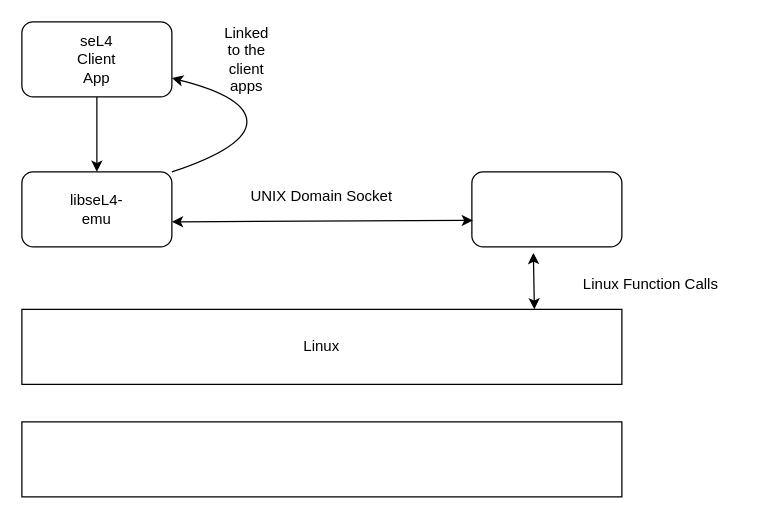
The diagram is 781 pixels wide and 519 high, and some of its shapes have lost their labels. Each missing label, with the centre of its shape:
Hardware: (x=321, y=459)
seL4 kernel emulator: (x=546, y=209)
